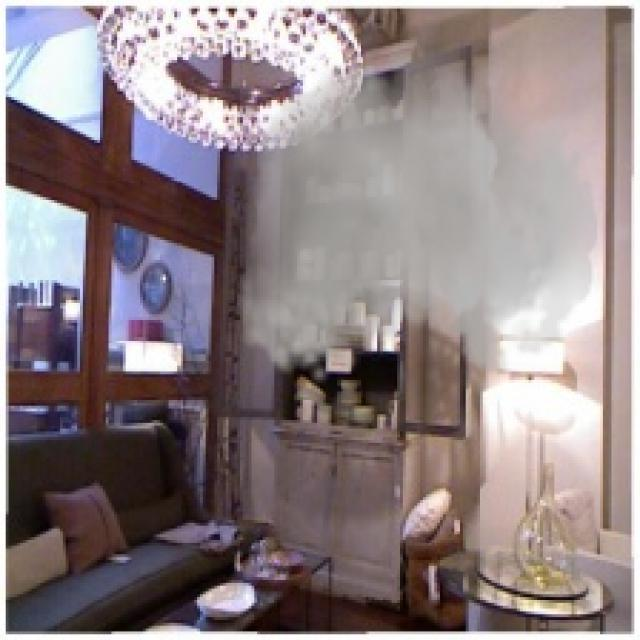Smoke: (237, 14, 597, 386)
